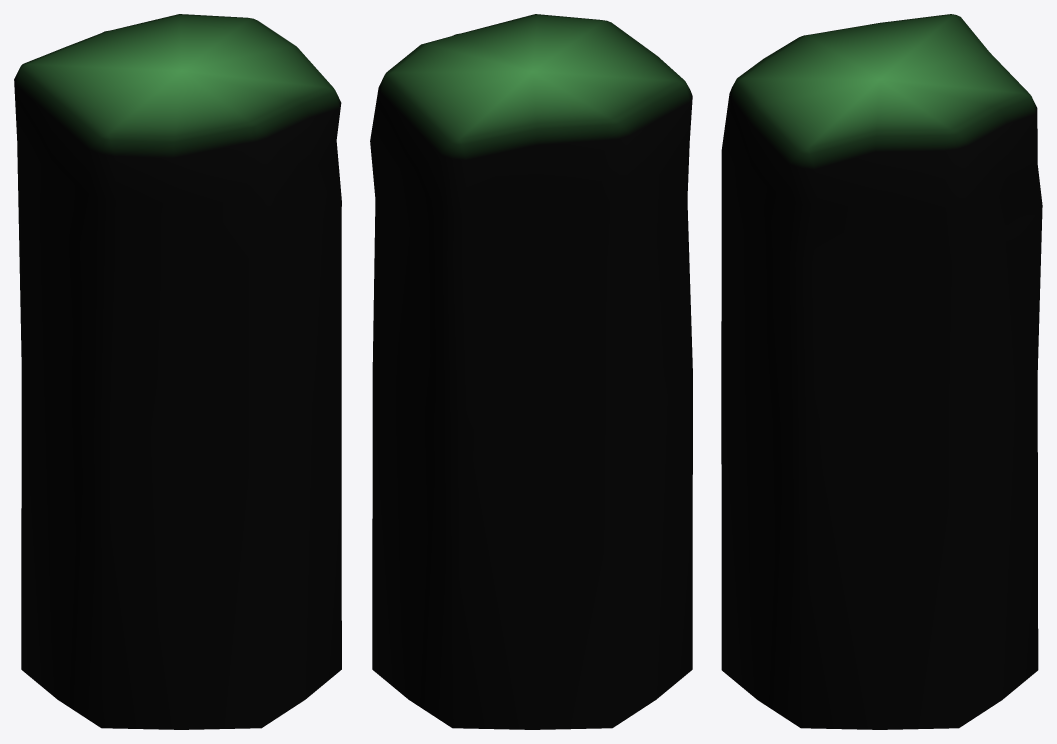
File: 50_Hexagon Field 1.fbx
The picture shows the model from 3 angles, left to right: view 1: azimuth 30°, elevation 25°; view 2: azimuth 150°, elevation 25°; view 3: azimuth 270°, elevation 25°; orthographic projection.
Visible parts, largest first — view 1: 50_Hexagon-Field; view 2: 50_Hexagon-Field; view 3: 50_Hexagon-Field.
Part boxes in pixels (left/top/right/bottom): 50_Hexagon-Field: left=14, top=14, right=341, bottom=729; 50_Hexagon-Field: left=370, top=14, right=692, bottom=729; 50_Hexagon-Field: left=721, top=14, right=1042, bottom=729.
Size of the model in its own units: 180 by 405 by 197.
